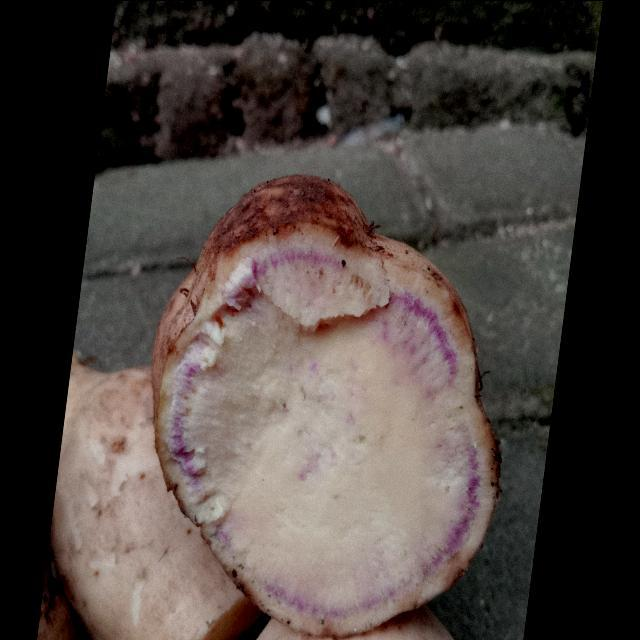Healthy Sweet Potato: (152, 217, 499, 635)
